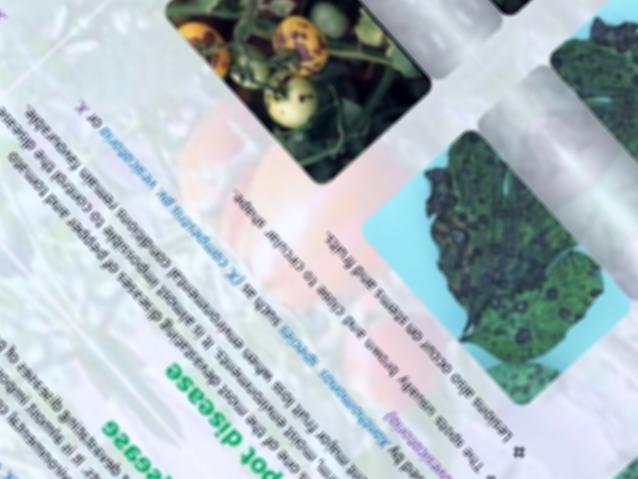Tomato leaf bacterial spot: (363, 126, 620, 388)
